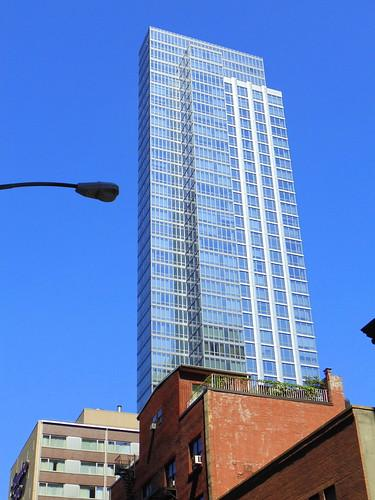building: (129, 26, 332, 498)
